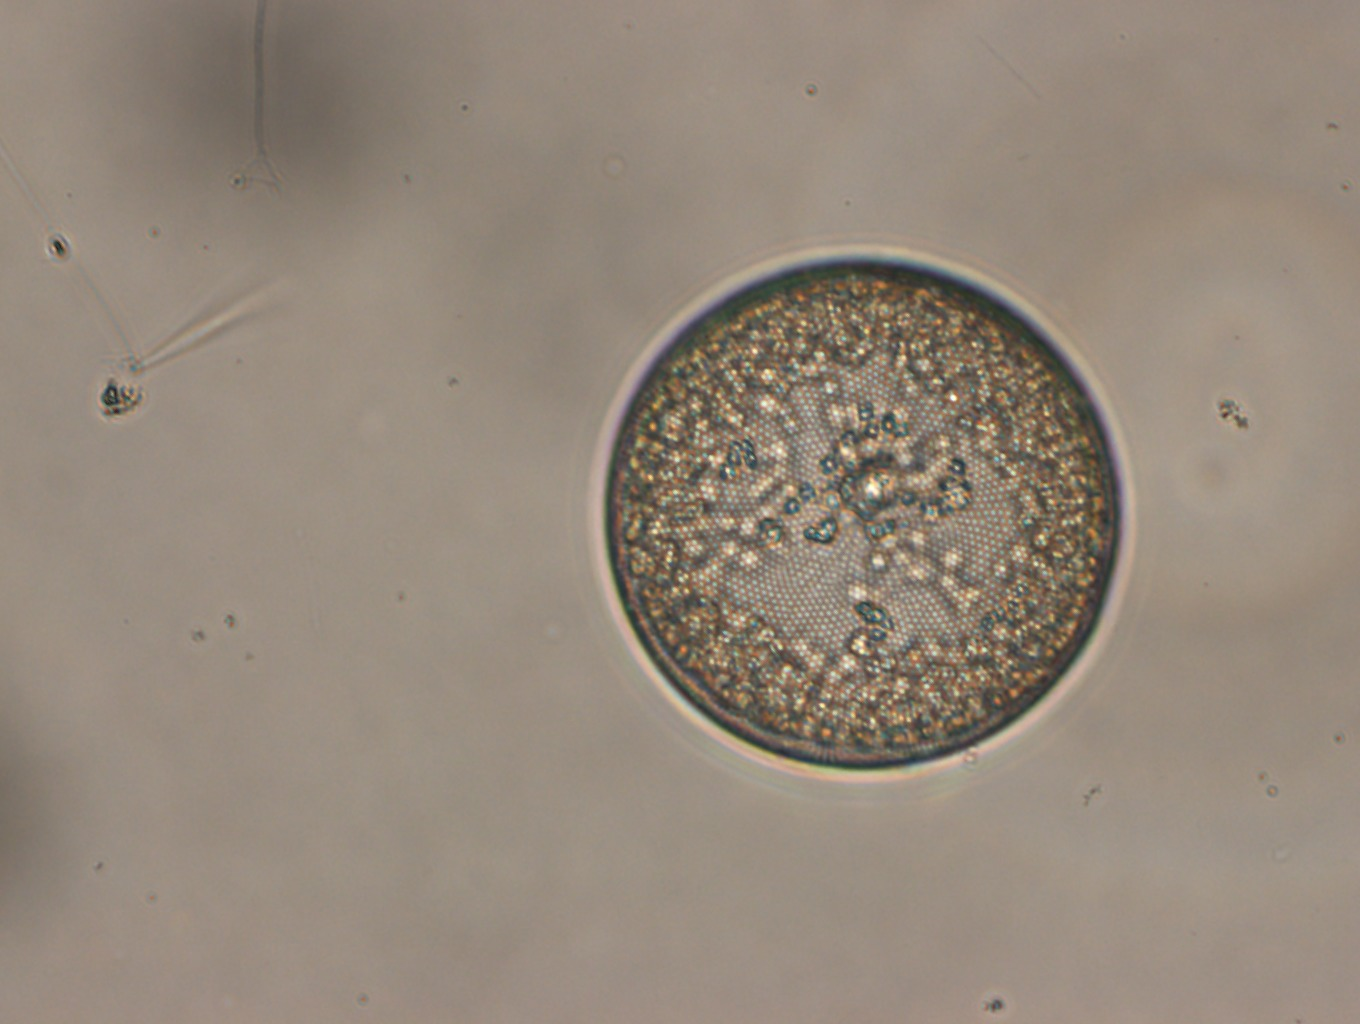coscinodiscus: (586, 246, 1134, 782)
